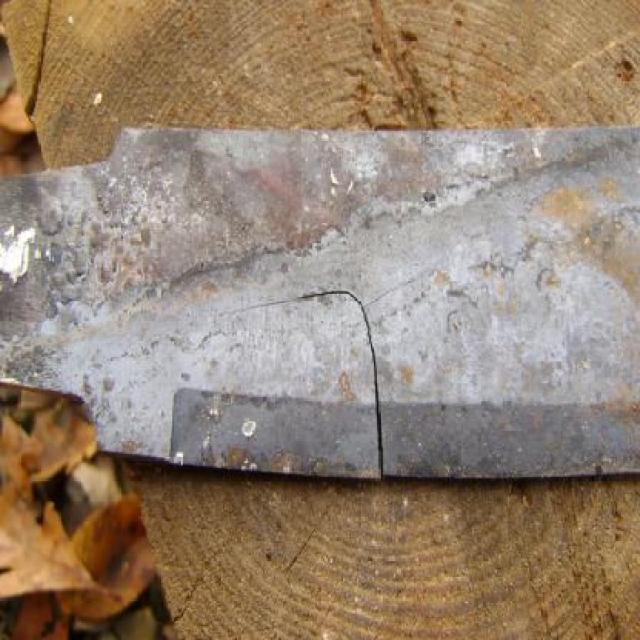crack: (223, 282, 391, 490)
